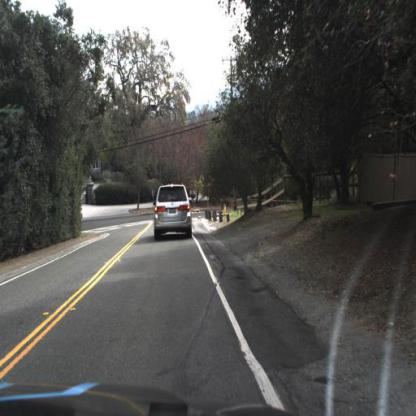car: (155, 184, 195, 245)
